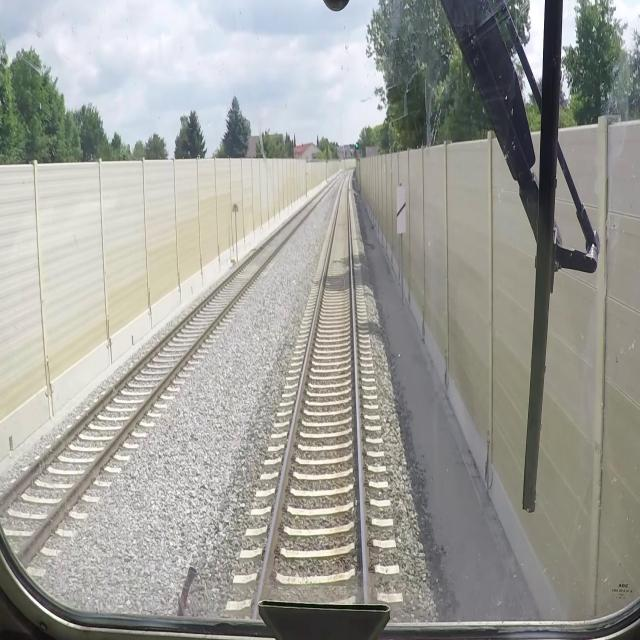rail-track: (23, 168, 352, 502), (261, 171, 362, 596)
